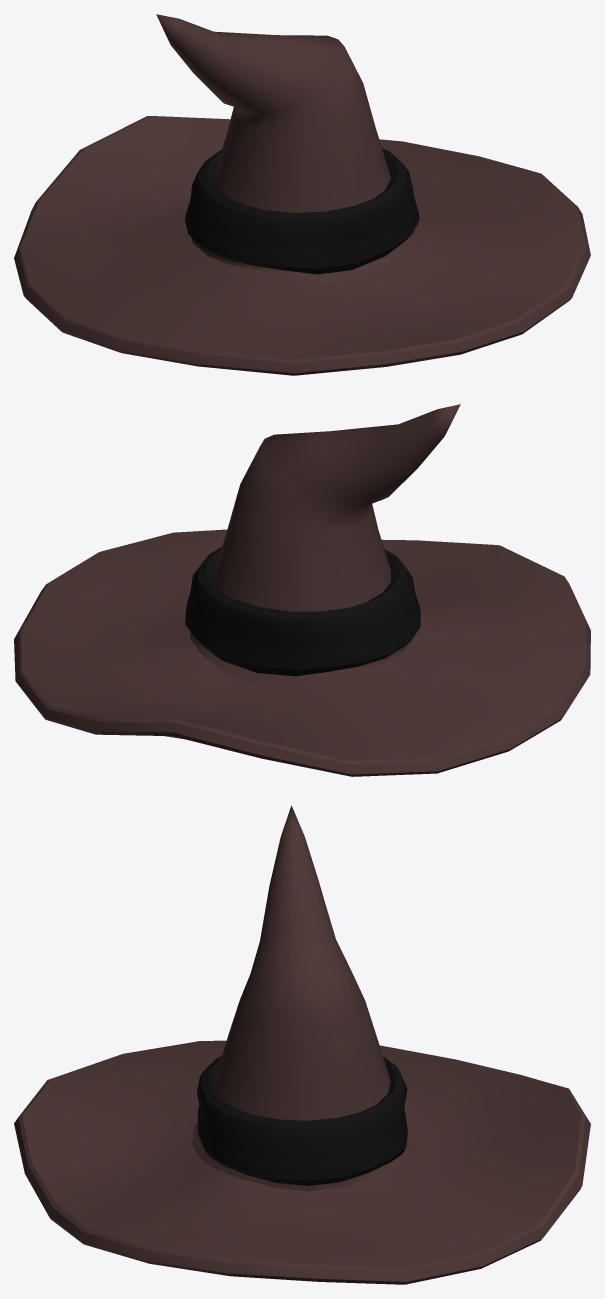
File: witch_hat.fbx
3 renders of one model, top to bottom at view 1: azimuth 30°, elevation 25°; view 2: azimuth 150°, elevation 25°; view 3: azimuth 270°, elevation 25°, orthographic.
Visible parts, largest first — view 1: WitchHat_LoPoly.002; view 2: WitchHat_LoPoly.002; view 3: WitchHat_LoPoly.002.
Part boxes in pixels (box(x1,y1,x2,y2)): WitchHat_LoPoly.002: box(14, 14, 590, 375); WitchHat_LoPoly.002: box(14, 404, 590, 776); WitchHat_LoPoly.002: box(14, 805, 590, 1284).
Bounding box in the file's own units: 489 × 276 × 484.
